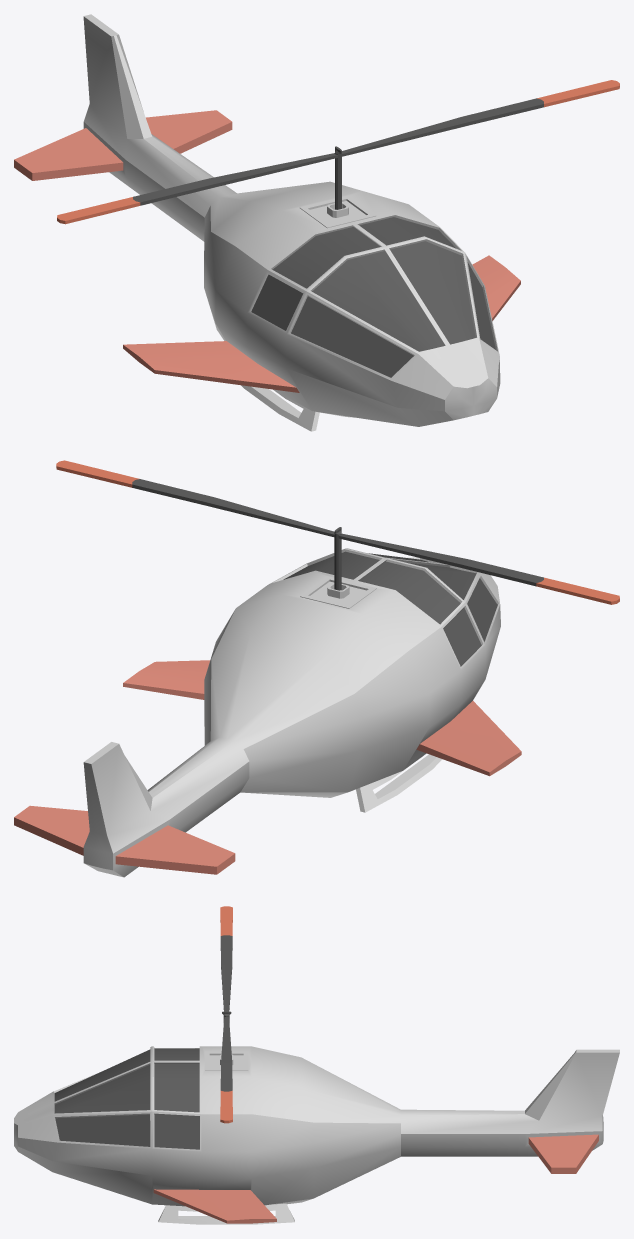
File: ship_21.fbx
3 views of the same model, one above another, from view 1: azimuth 30°, elevation 25°; view 2: azimuth 150°, elevation 25°; view 3: azimuth 270°, elevation 25° (orthographic). The views are drawn at different scales.
Visible parts, largest first — view 1: body, prop.; view 2: body, prop.; view 3: body, prop..
Boxes of the visible parts, bbox=[...] form: body: bbox=[14, 14, 520, 431]; prop.: bbox=[57, 80, 619, 224]; body: bbox=[14, 548, 521, 877]; prop.: bbox=[56, 460, 619, 604]; body: bbox=[14, 1046, 619, 1224]; prop.: bbox=[220, 906, 232, 1123].
Bounding box in the file's own units: 1222 × 488 × 1460.
